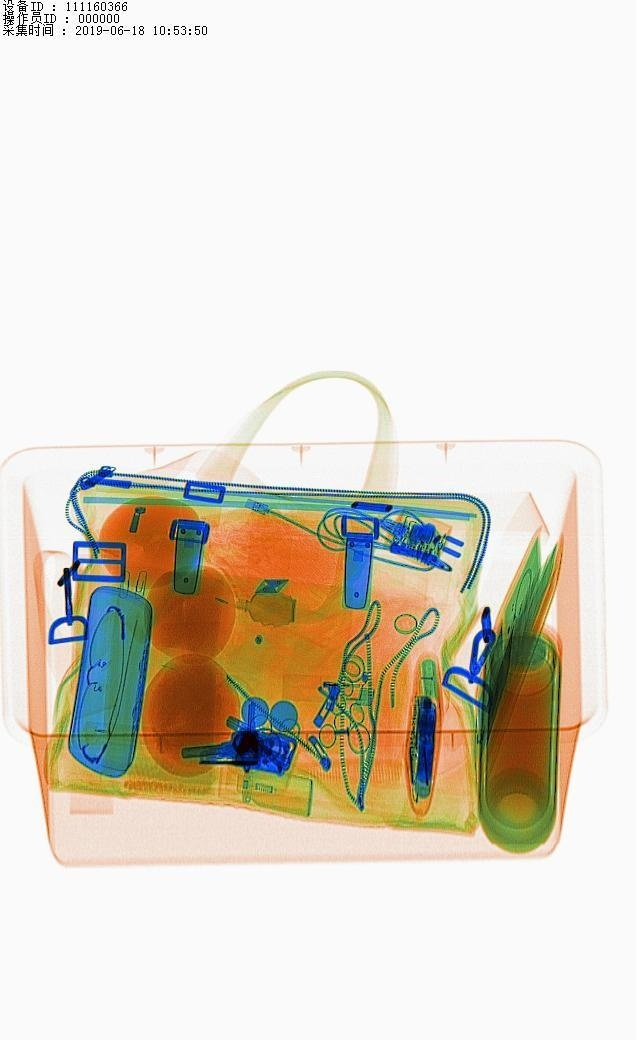NonmetallicFire: (263, 654, 421, 721)
